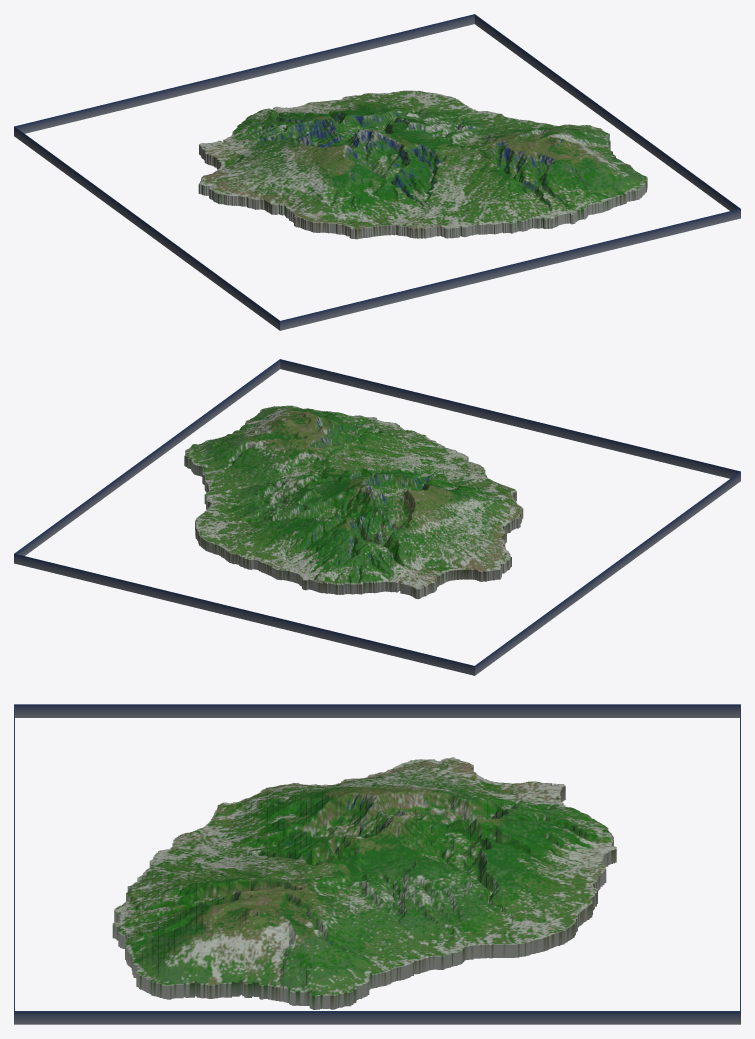
File: model_land_only_cutout.glb
3 views of the same model, one above another, from view 1: azimuth 30°, elevation 25°; view 2: azimuth 150°, elevation 25°; view 3: azimuth 270°, elevation 25° (orthographic). The views are drawn at different scales.
Visible parts, largest first — view 1: land_only_cutout; view 2: land_only_cutout; view 3: land_only_cutout.
Part boxes in pixels (x1,y1,x2,y2): land_only_cutout: [14, 14, 740, 330]; land_only_cutout: [14, 359, 740, 675]; land_only_cutout: [14, 704, 740, 1024].
Size of the model in its own units: 150 by 12.94 by 150.
